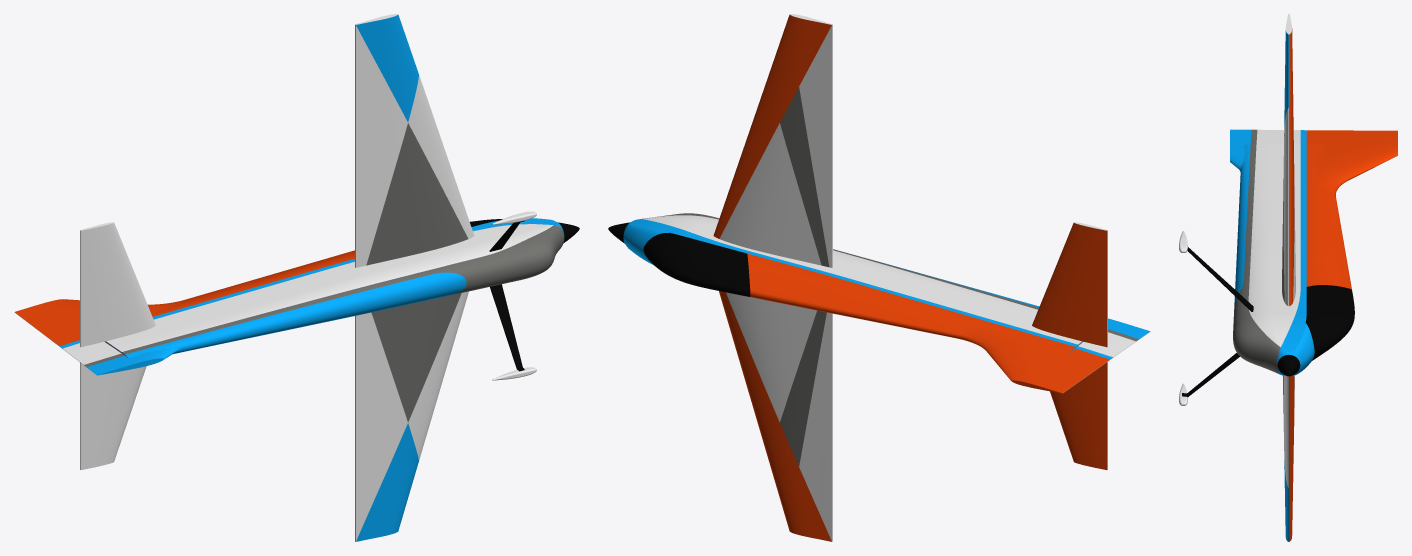
File: placebo.obj
3 renders of one model, left to right at view 1: azimuth 30°, elevation 25°; view 2: azimuth 150°, elevation 25°; view 3: azimuth 270°, elevation 25°, orthographic.
Parts seen in each view (by area): view 1: Body322; view 2: Body322; view 3: Body322.
Part boxes in pixels (x1,y1,x2,y2): Body322: (14,14,579,541); Body322: (608,14,1150,541); Body322: (1179,14,1397,541).
Size of the model in its own units: 1970 by 1900 by 743.
